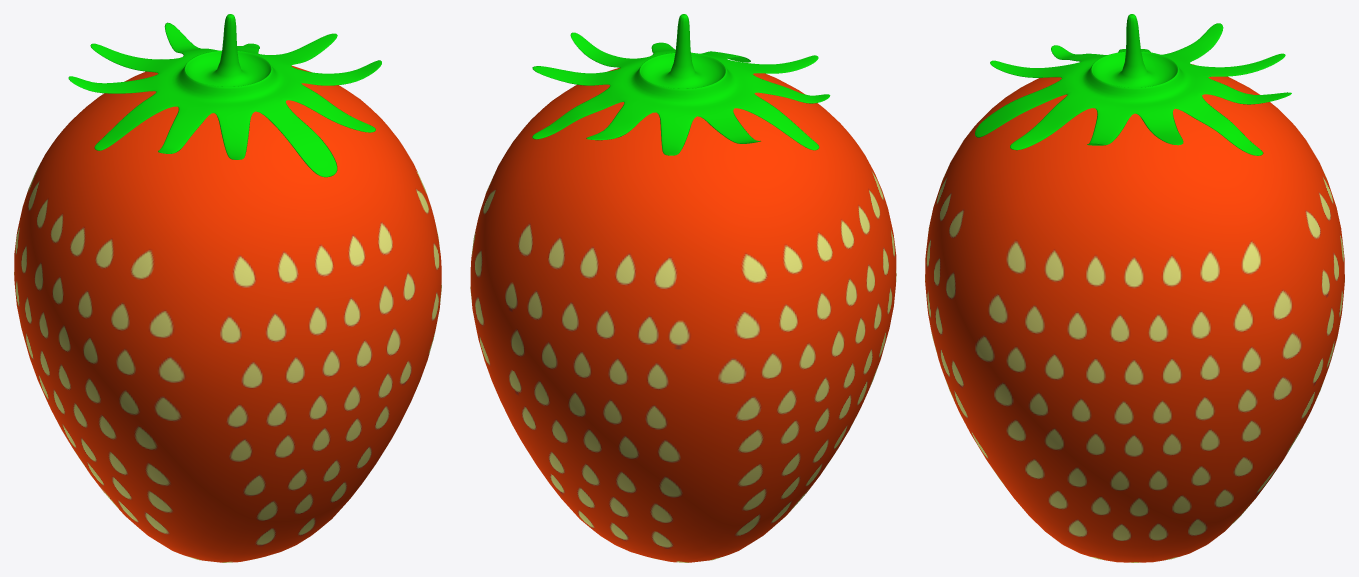
Rendered from イチゴ.fbx.
3 renders of one model, left to right at view 1: azimuth 30°, elevation 25°; view 2: azimuth 150°, elevation 25°; view 3: azimuth 270°, elevation 25°, orthographic.
Parts seen in each view (by area): view 1: pCube1, pCylinder1; view 2: pCube1, pCylinder1; view 3: pCube1, pCylinder1.
Boxes of the visible parts, x1,y1,x2,y2 form: pCube1: (14, 65, 441, 562); pCylinder1: (68, 14, 381, 177); pCube1: (470, 68, 896, 562); pCylinder1: (532, 14, 830, 155); pCube1: (925, 64, 1344, 562); pCylinder1: (975, 14, 1291, 155).
Bounding box in the file's own units: 0.8406 × 1.18 × 0.8406.
